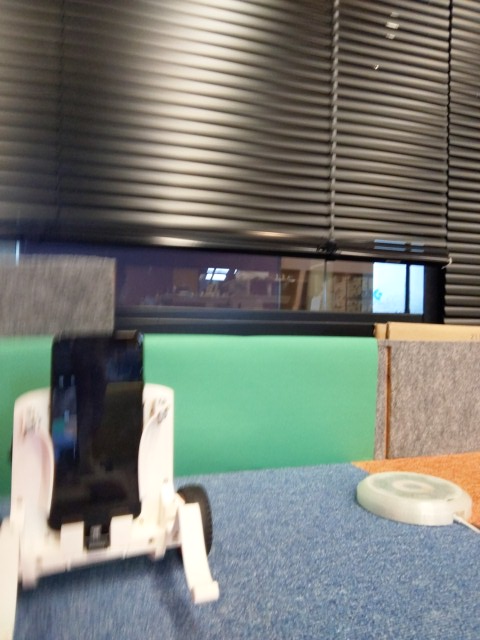f: (1, 314, 222, 640)
o: (355, 459, 472, 530)
